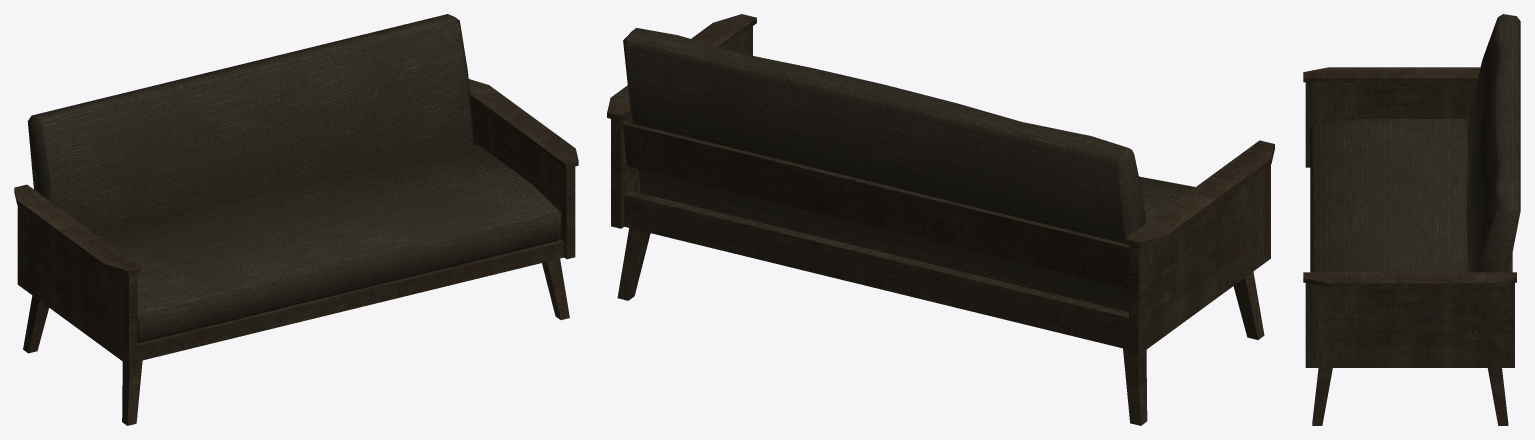
The model's file is sofa_4_1.obj.
3 views of the same model, side by side, from view 1: azimuth 30°, elevation 25°; view 2: azimuth 150°, elevation 25°; view 3: azimuth 270°, elevation 25° (orthographic). The views are drawn at different scales.
Visible parts, largest first — view 1: sofa_4_1; view 2: sofa_4_1; view 3: sofa_4_1.
Boxes of the visible parts, <box> form: sofa_4_1: <box>14,14,578,425</box>; sofa_4_1: <box>607,14,1274,425</box>; sofa_4_1: <box>1303,14,1520,425</box>.
Bounding box in the file's own units: 2.2 × 1.03 × 0.9346.
